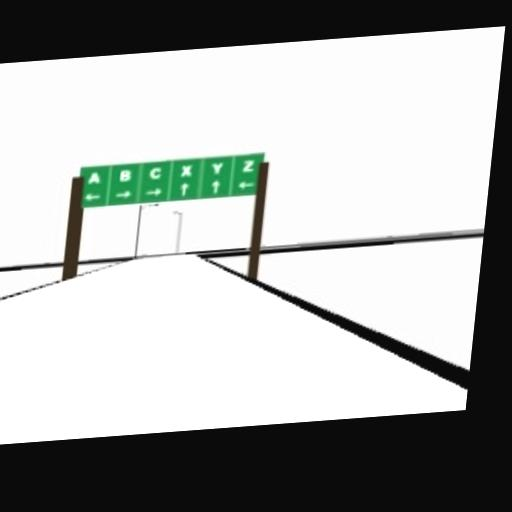A: (86, 172, 99, 185)
B: (118, 168, 131, 181)
C: (148, 166, 161, 181)
Left: (236, 179, 255, 189), (84, 193, 99, 201)
Right: (144, 186, 161, 196), (114, 188, 131, 198)
Straight: (210, 178, 220, 195), (178, 181, 188, 197)
X: (180, 163, 192, 176)
Y: (210, 161, 223, 174)
Z: (241, 159, 254, 172)
